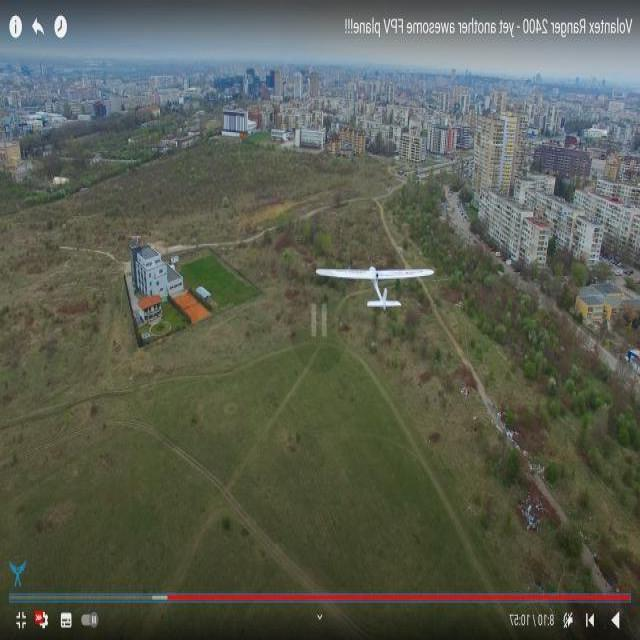UAV: (267, 246, 447, 364)
